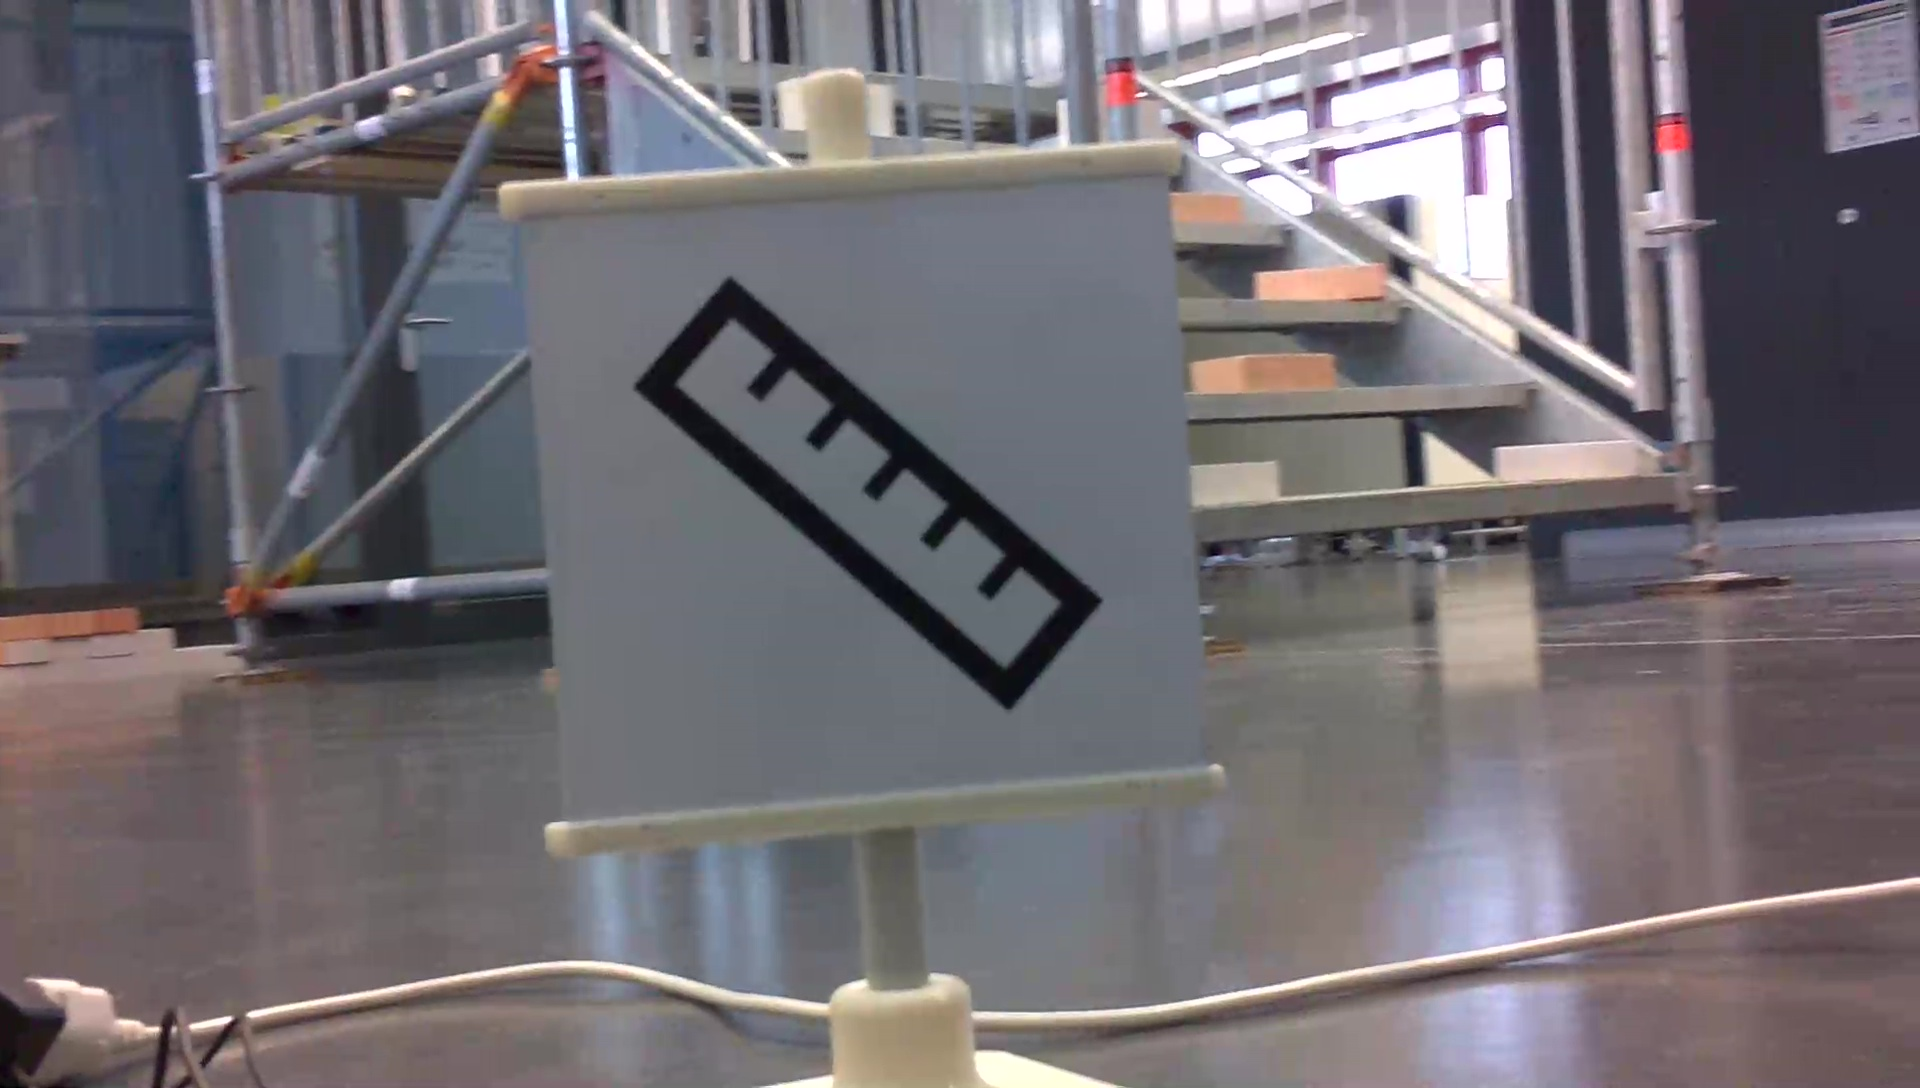brick: (1491, 427, 1640, 481), (1251, 255, 1399, 305), (767, 74, 898, 127), (1191, 353, 1325, 400), (1189, 454, 1282, 506), (1164, 193, 1262, 229)
edge: (1170, 469, 1677, 545), (1174, 378, 1535, 425), (1168, 299, 1422, 331), (1170, 222, 1302, 249)
ruler: (624, 273, 1110, 717)
